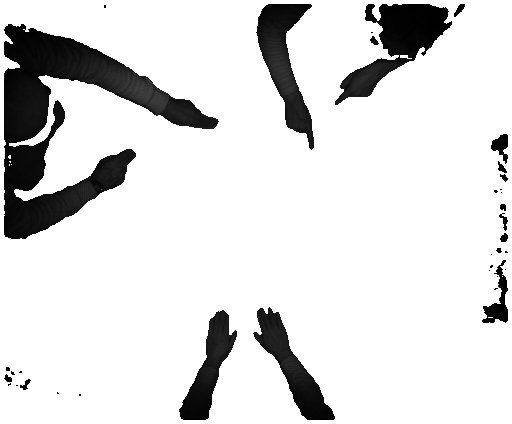hand: (328, 68, 381, 111), (248, 307, 295, 355), (200, 306, 239, 360), (280, 101, 319, 151), (166, 100, 220, 135), (95, 144, 135, 189)
